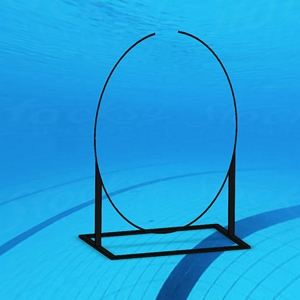circle: (77, 30, 255, 264)
